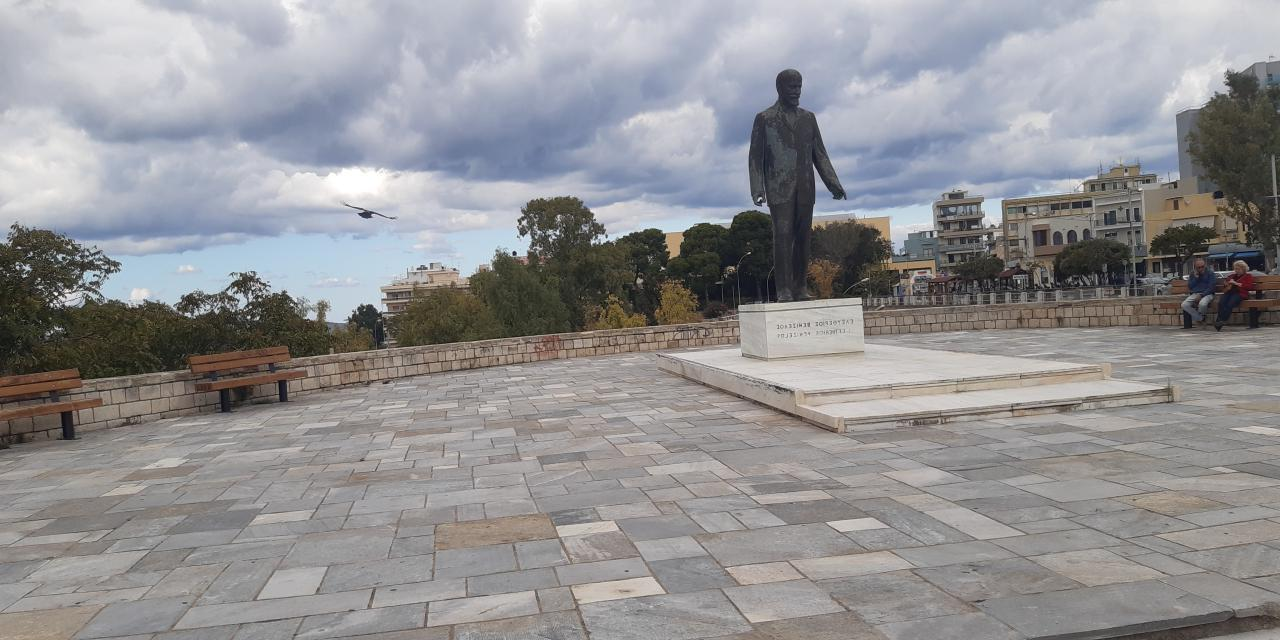Venizelos: (748, 66, 847, 301)
